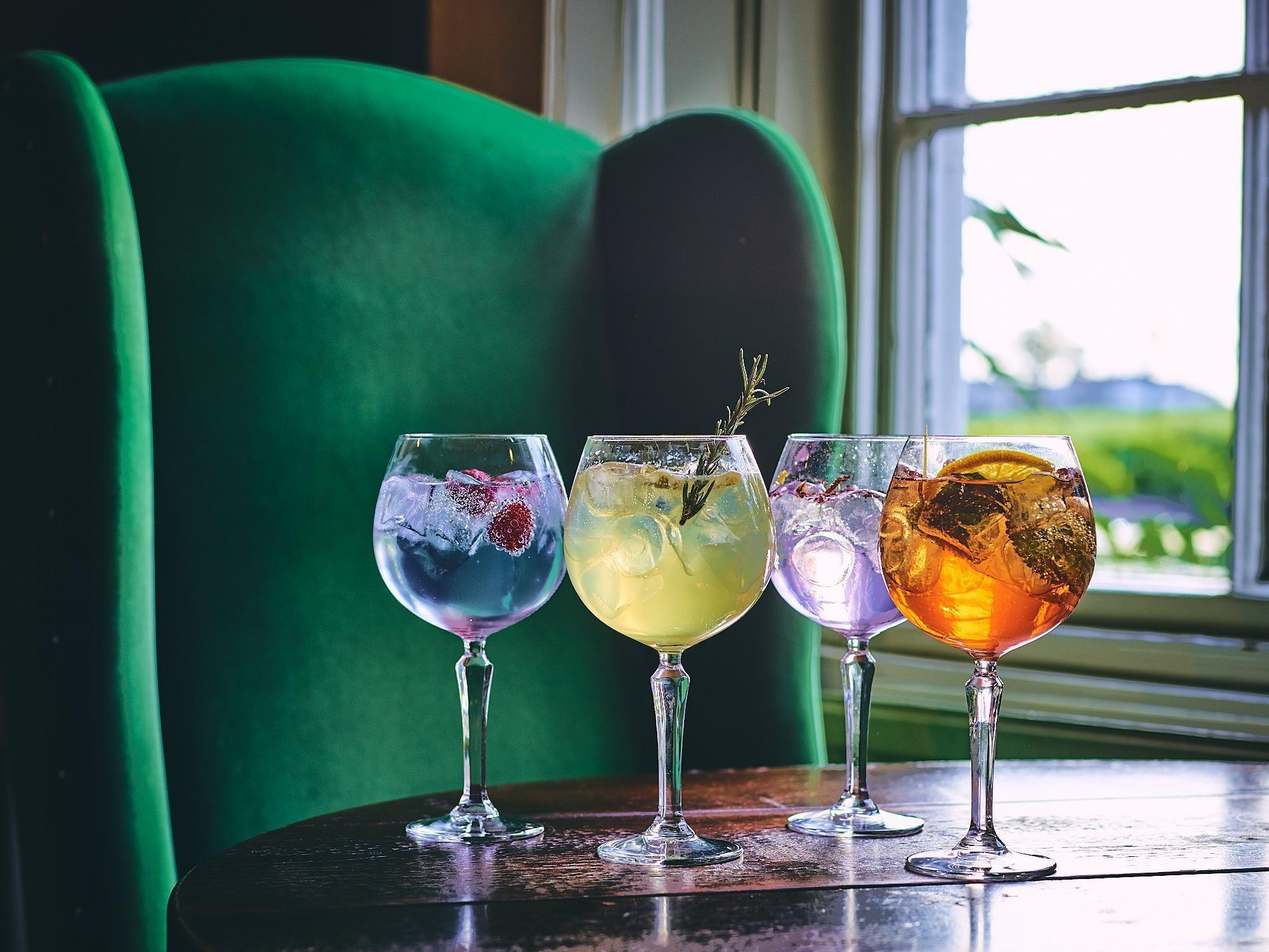glass-wine: (879, 433, 1098, 883), (564, 435, 773, 866), (372, 430, 567, 845), (768, 432, 936, 842)
